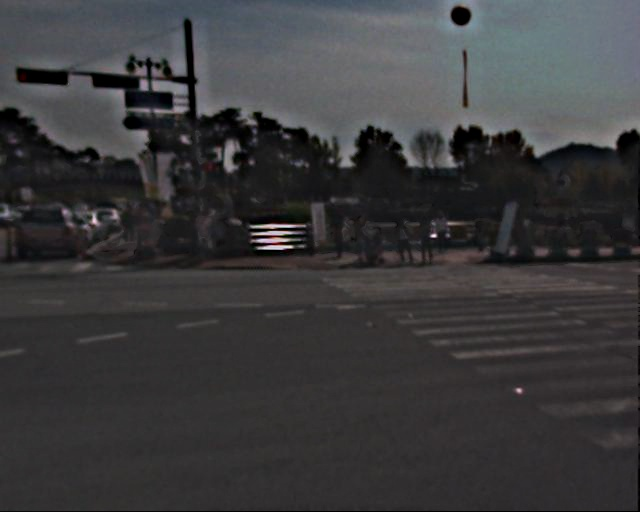person: (355, 209, 378, 264), (121, 205, 153, 243), (195, 207, 217, 260), (420, 216, 441, 266), (395, 217, 414, 264), (436, 209, 455, 256), (336, 215, 354, 260)
